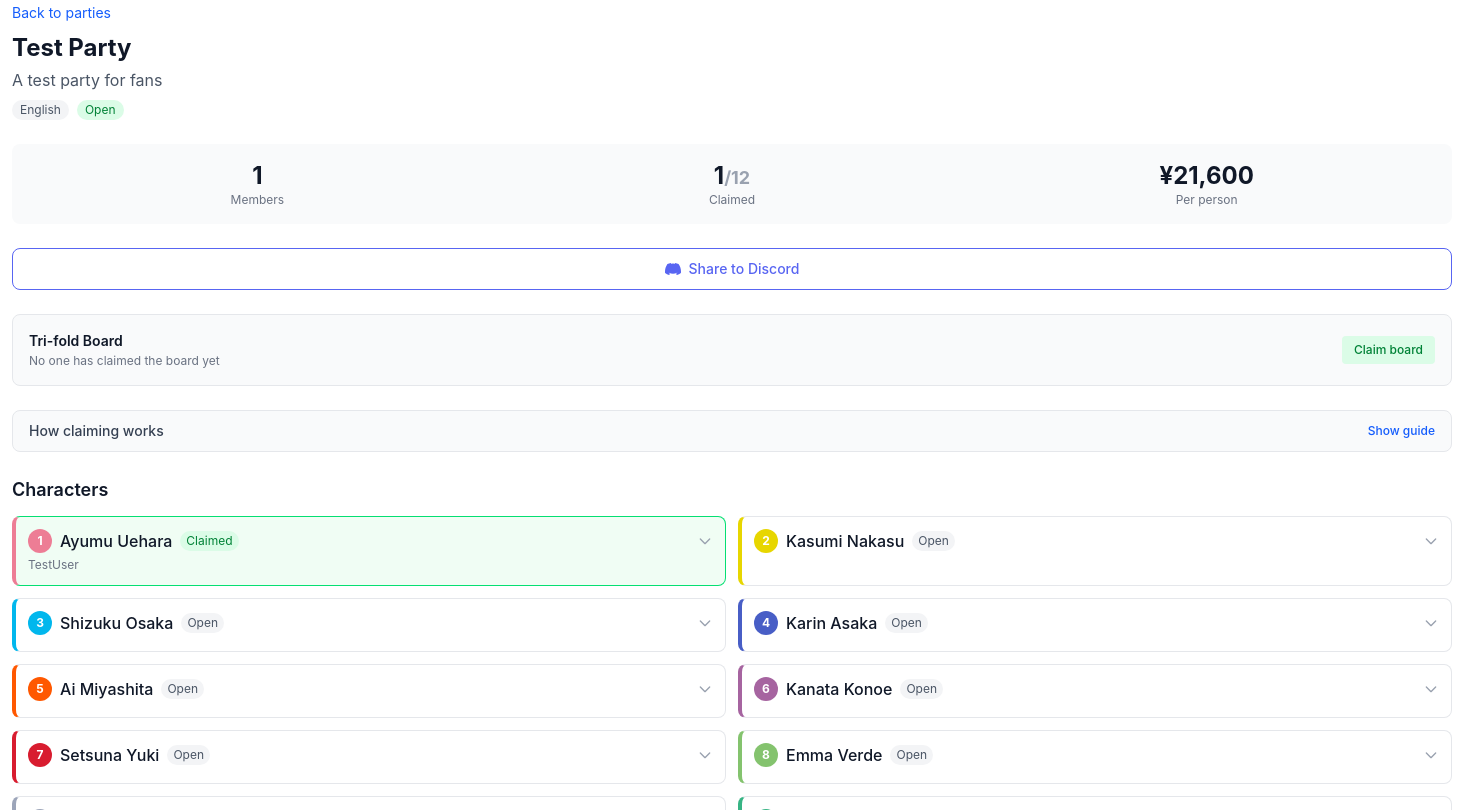
it: PartyDetail — RECORD scenarios (claim states) › shows cancel claim button for user's own full claim
This screenshot has width=1464, height=810.
Expected: the heading "Test Party" is shown, left=12, top=33, right=132, bottom=62
Click the text "Ayumu Uehara".
click(116, 541)  # box left=60, top=529, right=172, bottom=553
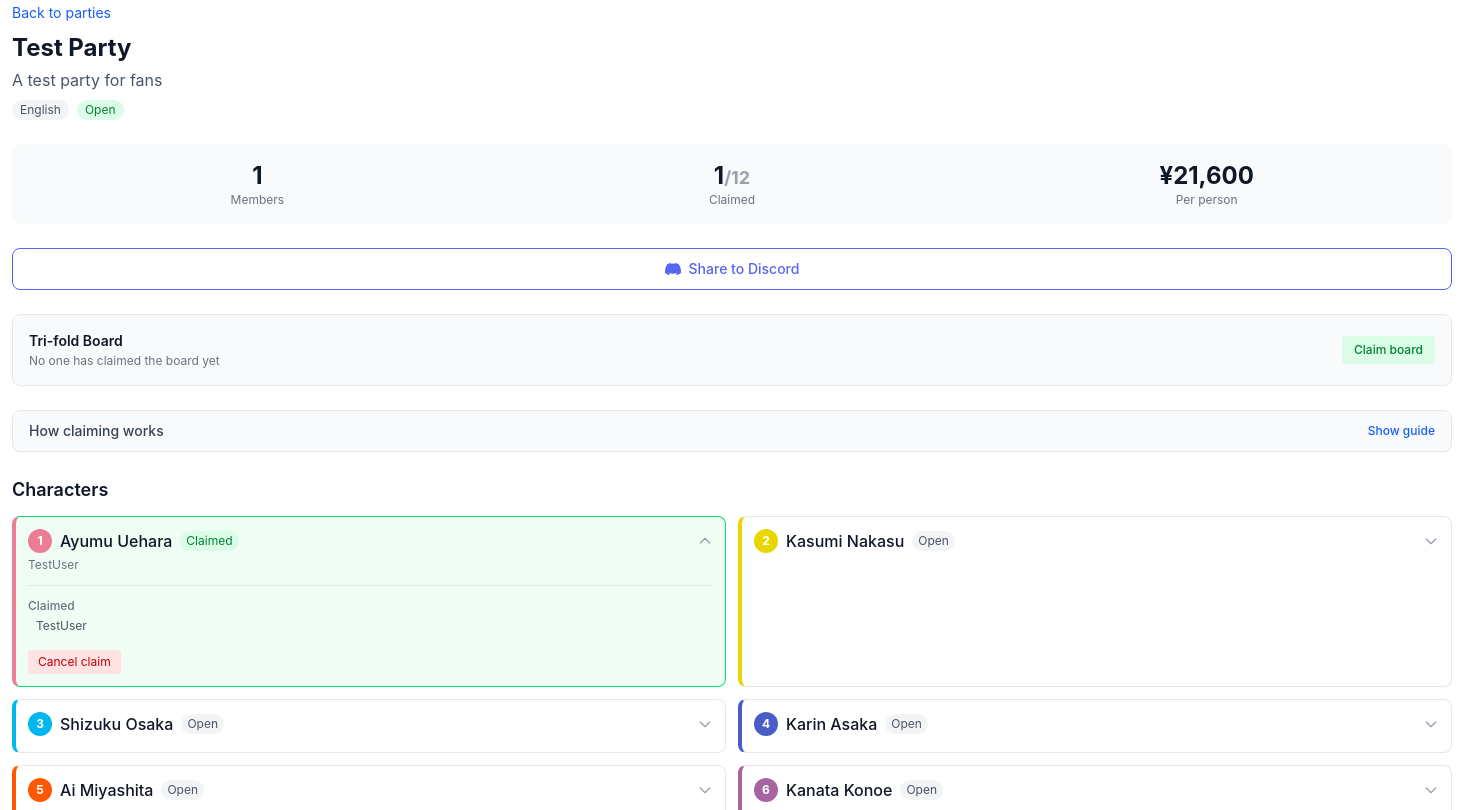
Expected: the button "Cancel claim" is shown, left=28, top=650, right=121, bottom=674
